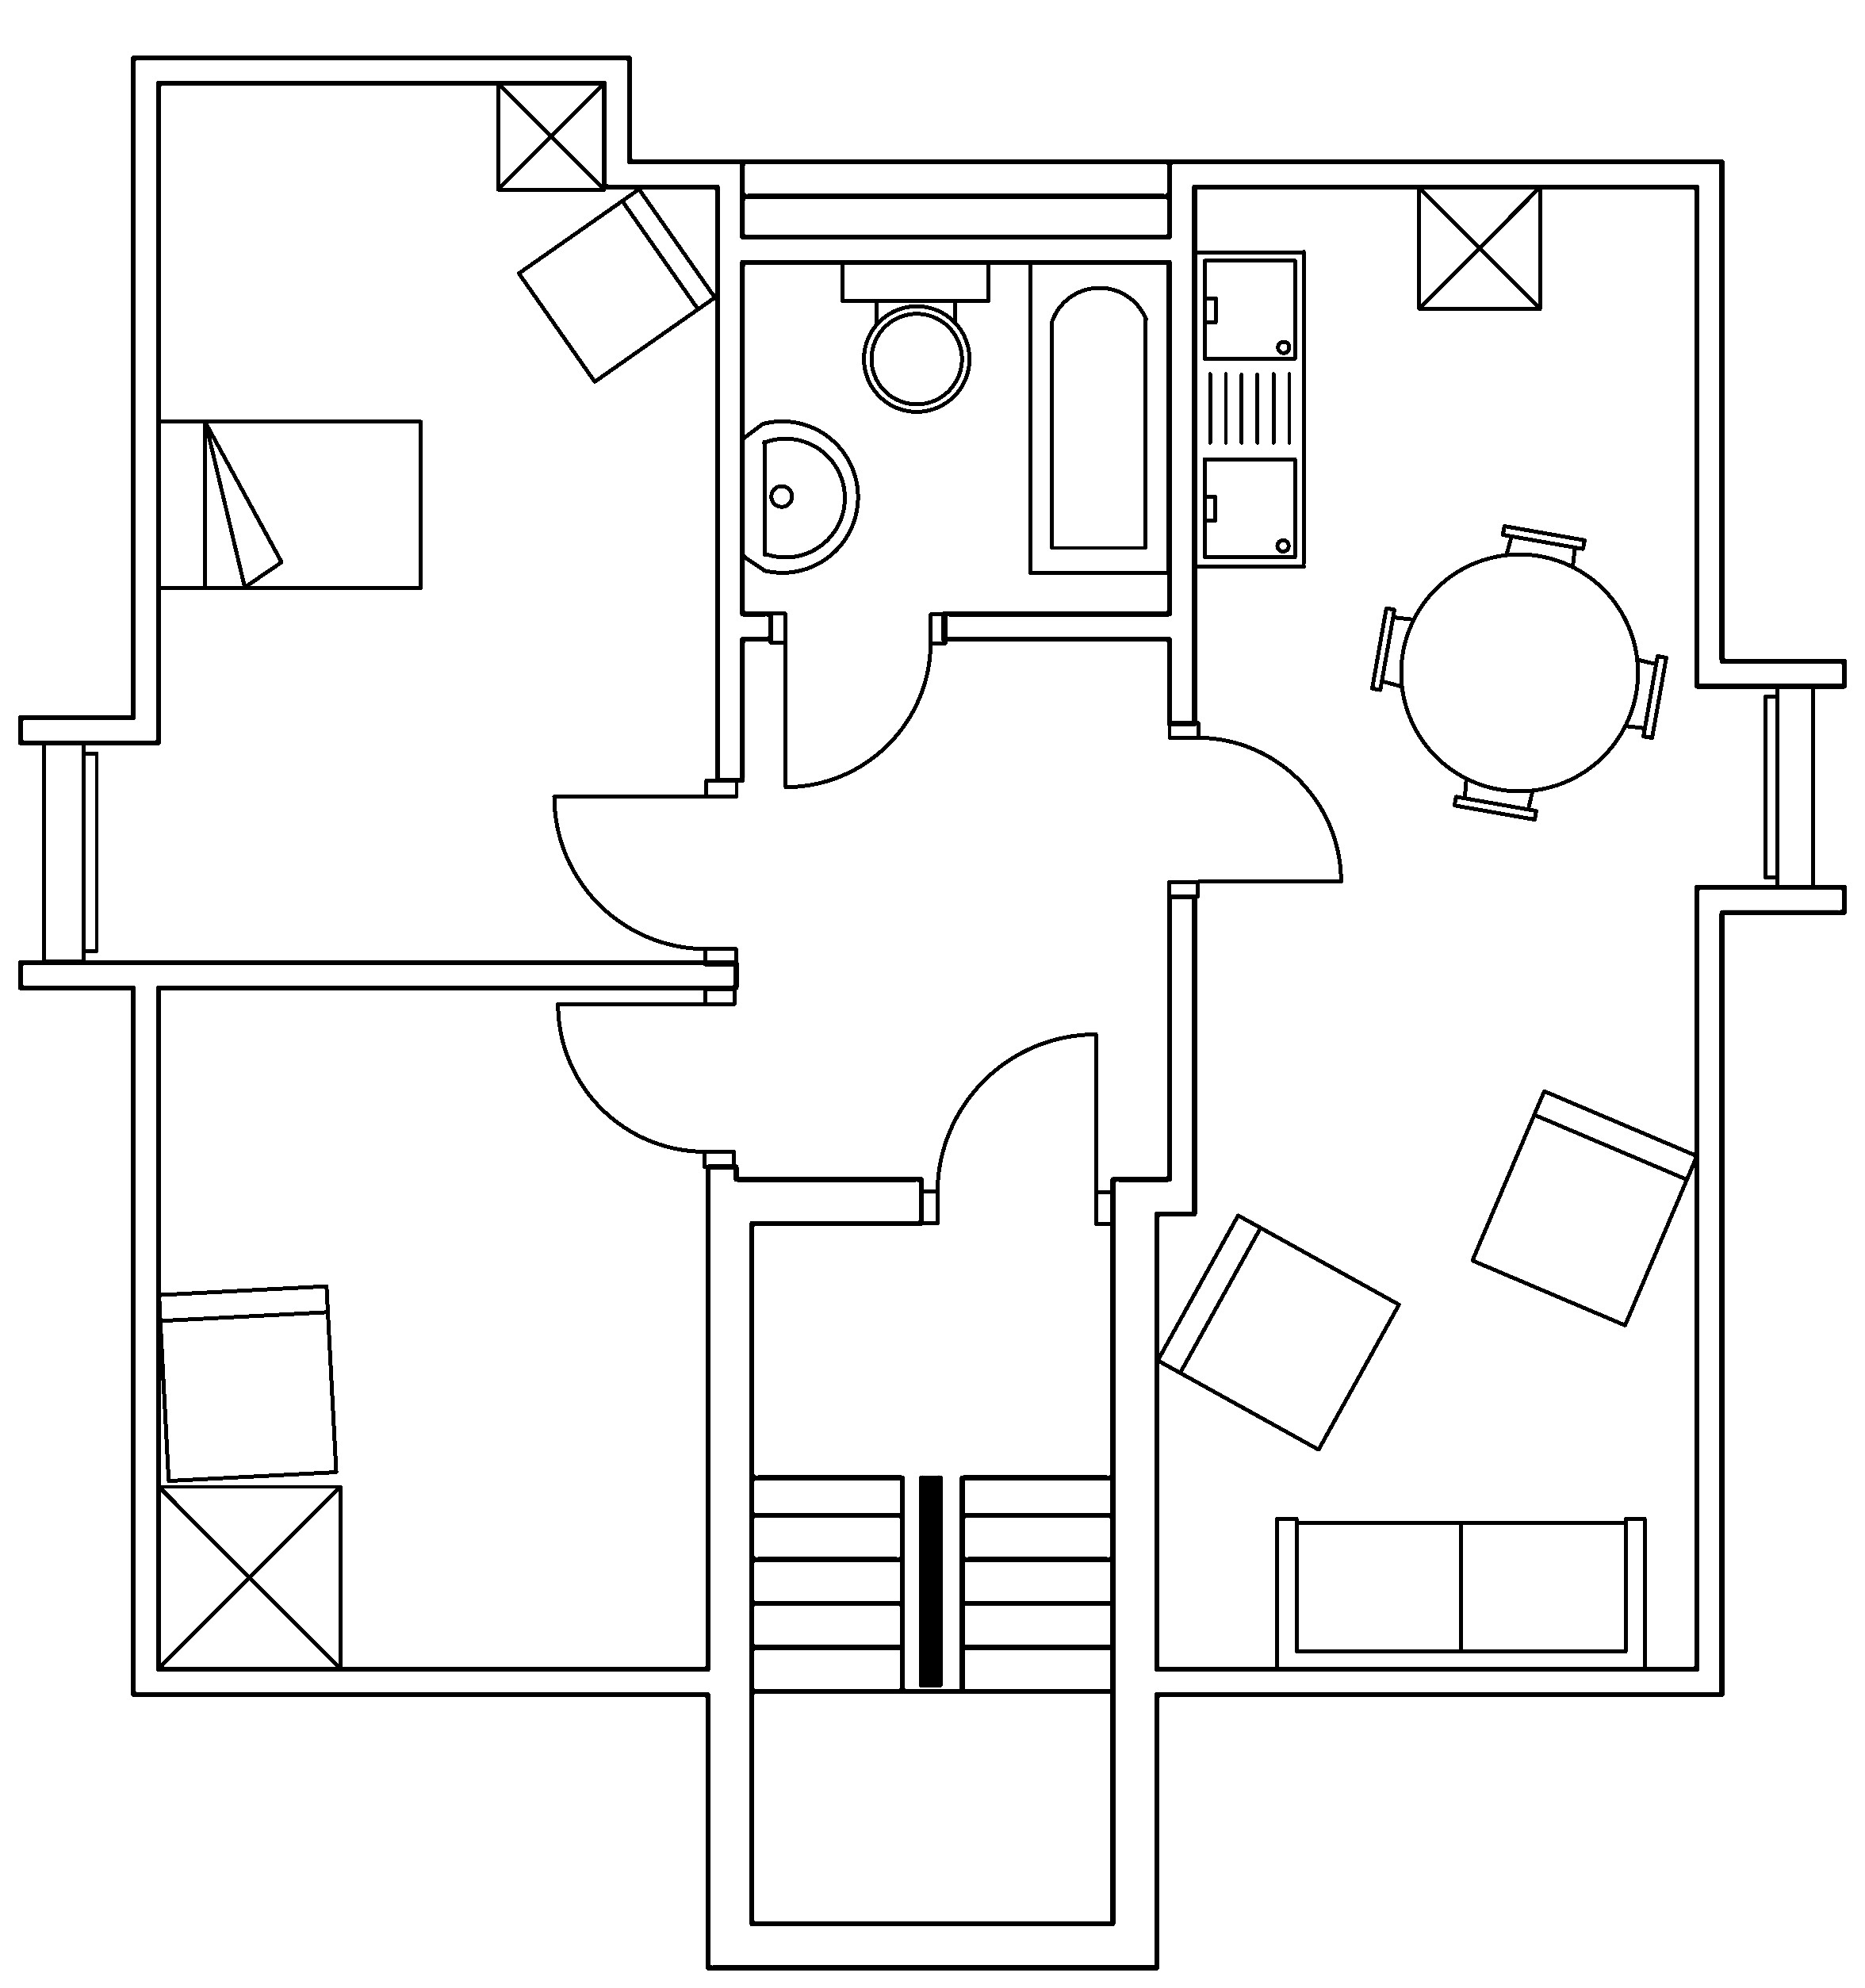bed: (154, 417, 424, 591)
coffee_table: (154, 1481, 342, 1671), (1416, 182, 1542, 310), (494, 79, 606, 191)
large_sink: (840, 258, 990, 412)
large_sofa: (1274, 1515, 1648, 1672)
round_table: (1369, 522, 1669, 822)
small_sink: (740, 419, 859, 573)
small_sofa: (1153, 1211, 1401, 1452), (1469, 1087, 1698, 1327), (515, 186, 717, 384), (156, 1282, 338, 1483)
tub: (1027, 258, 1171, 575)
twin_sink: (1192, 247, 1308, 570)
